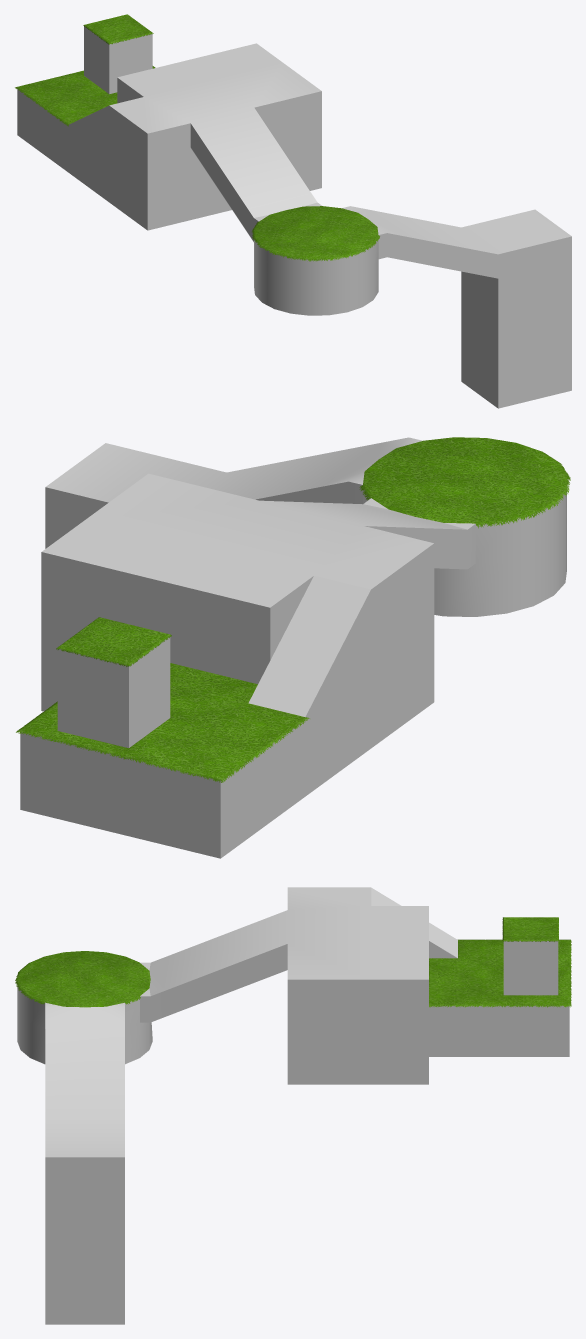
The model's file is SM_world_1_01_alt.fbx.
3 renders of one model, top to bottom at view 1: azimuth 30°, elevation 25°; view 2: azimuth 150°, elevation 25°; view 3: azimuth 270°, elevation 25°, orthographic. The views are drawn at different scales.
Parts seen in each view (by area): view 1: Main_mesh_alt; view 2: Main_mesh_alt; view 3: Main_mesh_alt.
Boxes of the visible parts, bbox=[...] form: Main_mesh_alt: bbox=[15, 14, 571, 408]; Main_mesh_alt: bbox=[16, 437, 570, 858]; Main_mesh_alt: bbox=[15, 887, 571, 1324].
Bounding box in the file's own units: 5434 × 7706 × 4189.
